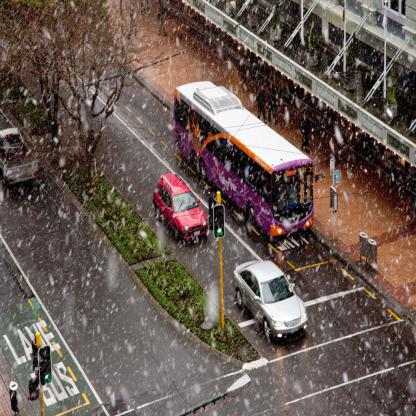Bus: (172, 76, 322, 236)
